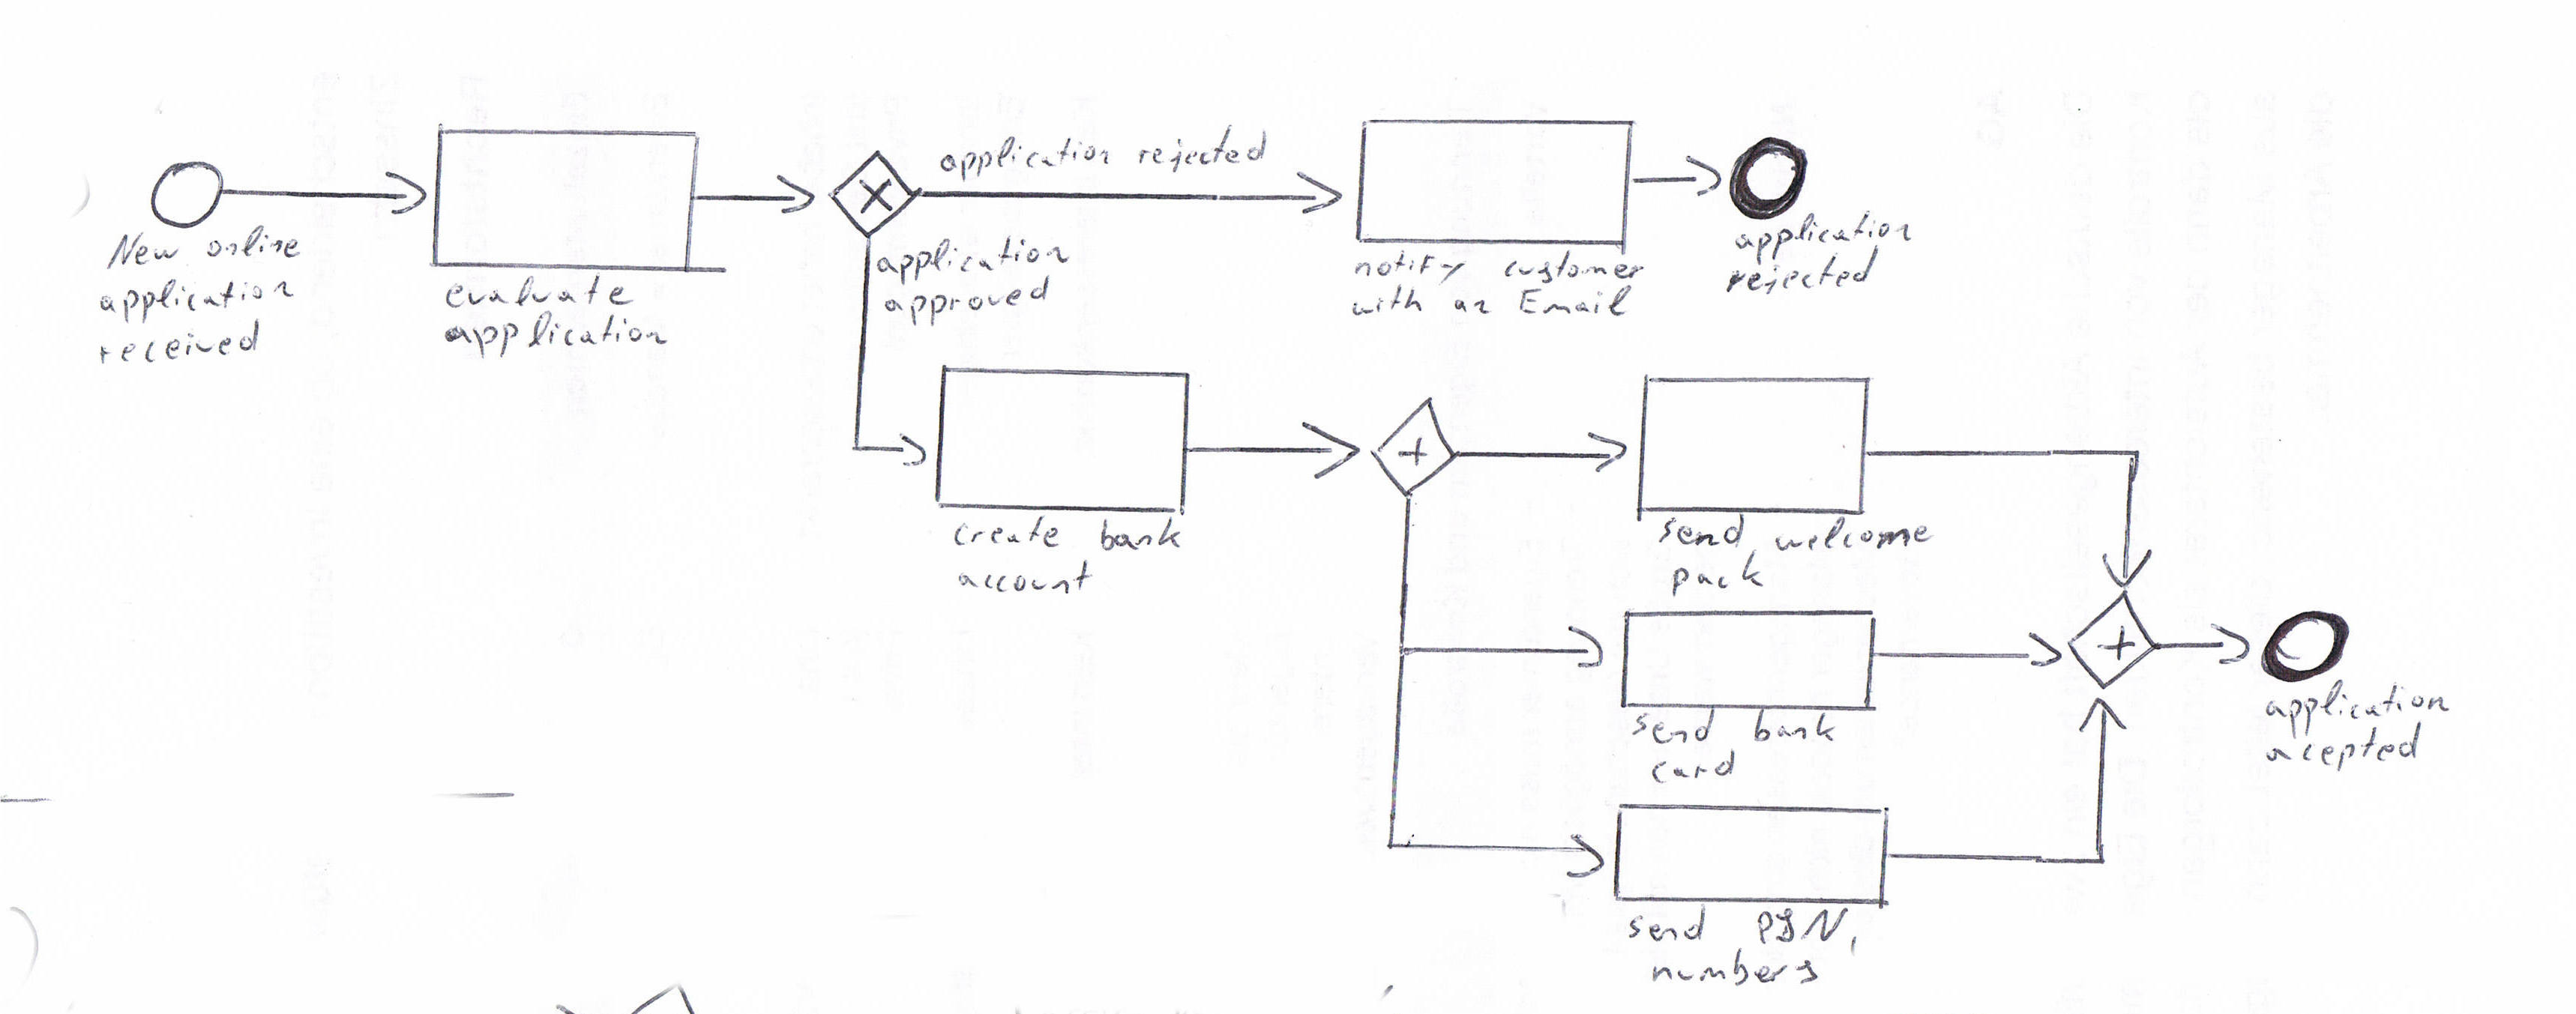Email: (1511, 283, 1635, 322)
New: (103, 230, 196, 271)
PIN: (1746, 904, 1855, 948)
account: (946, 557, 1102, 600)
acepted: (2247, 733, 2438, 781)
an: (1444, 289, 1502, 320)
application: (932, 125, 1120, 189), (435, 312, 670, 360), (76, 274, 309, 322), (2262, 679, 2454, 736), (876, 230, 1074, 283), (1727, 214, 1914, 265)
approved: (881, 284, 1053, 337)
bank: (1094, 513, 1189, 562), (1746, 705, 1842, 746)
card: (1653, 753, 1741, 787)
create: (953, 516, 1073, 554)
customer: (1493, 248, 1651, 286)
evaluate: (447, 274, 636, 312)
notity: (1350, 248, 1477, 284)
numbers: (1641, 947, 1827, 998)
online: (200, 220, 304, 273)
pack: (1671, 552, 1774, 598)
received: (79, 337, 279, 383)
rejected: (1725, 255, 1886, 306), (1125, 123, 1276, 176)
send: (1625, 904, 1723, 947), (1630, 707, 1730, 746), (1656, 516, 1759, 554)
welcome: (1769, 516, 1934, 560)
with: (1347, 284, 1436, 320)
